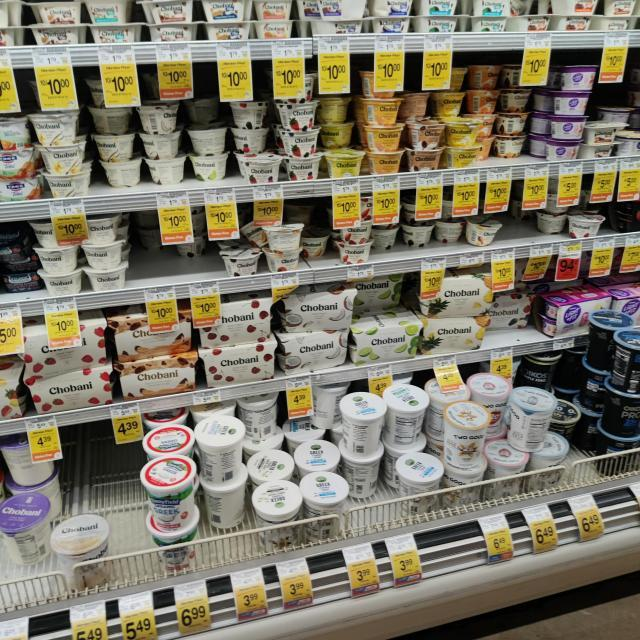Yogurt: (107, 345, 215, 401), (273, 278, 376, 334), (18, 323, 118, 379), (189, 293, 288, 349), (423, 257, 501, 321), (297, 467, 364, 541), (101, 313, 205, 360), (52, 507, 118, 581), (340, 310, 430, 362), (415, 304, 501, 356), (247, 477, 307, 551), (144, 451, 202, 527), (185, 419, 254, 481), (506, 382, 563, 454), (439, 395, 496, 467), (537, 290, 619, 340), (194, 465, 250, 536), (381, 379, 435, 449), (339, 387, 390, 455), (393, 454, 450, 513), (260, 218, 322, 259), (316, 147, 378, 183), (545, 82, 597, 123), (27, 111, 85, 147), (273, 121, 331, 157), (71, 241, 139, 270), (136, 126, 189, 162), (38, 164, 94, 198), (352, 123, 414, 153), (39, 141, 101, 171), (269, 95, 327, 127), (358, 96, 416, 128), (236, 148, 284, 186), (560, 59, 609, 96), (543, 113, 597, 146), (439, 112, 483, 149), (407, 114, 449, 152), (23, 249, 84, 275), (461, 215, 505, 251), (264, 243, 312, 275), (89, 128, 137, 160), (213, 245, 264, 275), (280, 150, 322, 186), (329, 238, 379, 267), (228, 121, 273, 153), (565, 210, 607, 244), (188, 127, 228, 157), (396, 222, 436, 250)
